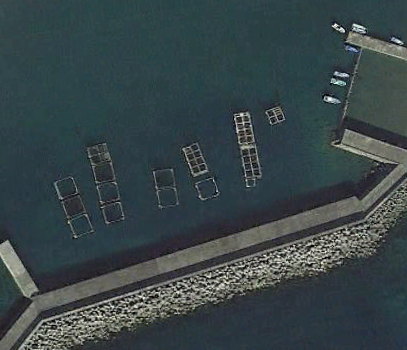ship: (321, 95, 344, 107), (349, 22, 370, 35), (332, 69, 353, 78), (328, 77, 349, 86), (331, 21, 345, 33), (343, 44, 361, 53), (389, 34, 404, 44)
square: (93, 176, 125, 207), (47, 173, 82, 200), (98, 196, 129, 226), (84, 137, 113, 168), (57, 193, 89, 221), (189, 175, 221, 203), (150, 164, 180, 193), (66, 209, 94, 239), (90, 159, 120, 185), (155, 184, 181, 210)
